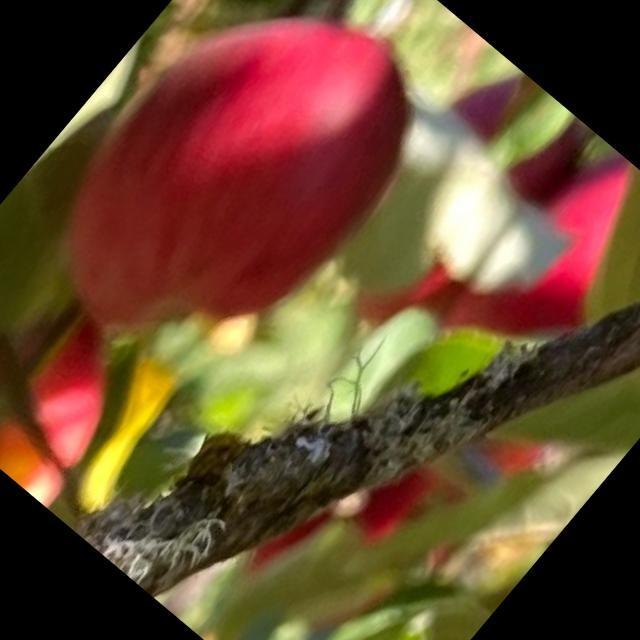100-_ripeness: (13, 0, 460, 405), (310, 52, 594, 356), (436, 133, 639, 394), (0, 223, 161, 507)
